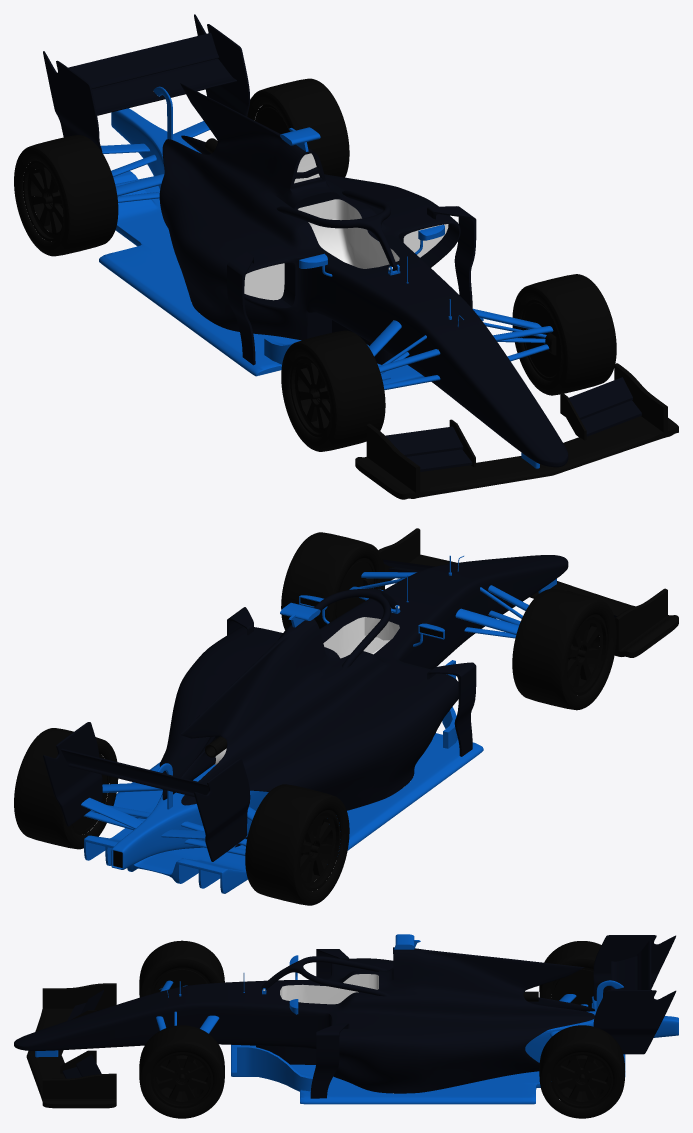
File: Men_accessory_Williams_px68_py15_pz-30_s0d3_5000.b8a06829.glb
3 views of the same model, one above another, from view 1: azimuth 30°, elevation 25°; view 2: azimuth 150°, elevation 25°; view 3: azimuth 270°, elevation 25° (orthographic). The views are drawn at different scales.
Visible parts, largest first — view 1: _gltfNode_0, _gltfNode_3, _gltfNode_13, _gltfNode_16, _gltfNode_4, _gltfNode_2, _gltfNode_10, _gltfNode_1, _gltfNode_14, _gltfNode_17; view 2: _gltfNode_0, _gltfNode_3, _gltfNode_16, _gltfNode_13, _gltfNode_4, _gltfNode_17, _gltfNode_14, _gltfNode_2, _gltfNode_10; view 3: _gltfNode_0, _gltfNode_3, _gltfNode_13, _gltfNode_4, _gltfNode_16, _gltfNode_10, _gltfNode_14, _gltfNode_17, _gltfNode_2, _gltfNode_9.
Boxes of the visible parts, bbox=[...] form: _gltfNode_0: bbox=[43, 14, 641, 471]; _gltfNode_3: bbox=[99, 86, 553, 468]; _gltfNode_13: bbox=[281, 274, 616, 451]; _gltfNode_16: bbox=[14, 78, 349, 256]; _gltfNode_4: bbox=[355, 363, 678, 499]; _gltfNode_2: bbox=[298, 199, 399, 268]; _gltfNode_10: bbox=[47, 107, 561, 401]; _gltfNode_1: bbox=[244, 153, 448, 300]; _gltfNode_14: bbox=[290, 299, 561, 437]; _gltfNode_17: bbox=[23, 104, 284, 241]; _gltfNode_0: bbox=[43, 555, 616, 861]; _gltfNode_3: bbox=[81, 555, 556, 893]; _gltfNode_16: bbox=[14, 728, 349, 905]; _gltfNode_13: bbox=[281, 532, 616, 710]; _gltfNode_4: bbox=[378, 528, 678, 657]; _gltfNode_17: bbox=[71, 754, 340, 890]; _gltfNode_14: bbox=[336, 558, 607, 695]; _gltfNode_2: bbox=[323, 617, 399, 658]; _gltfNode_10: bbox=[72, 561, 583, 855]; _gltfNode_0: bbox=[14, 935, 676, 1098]; _gltfNode_3: bbox=[35, 934, 678, 1104]; _gltfNode_13: bbox=[139, 940, 224, 1118]; _gltfNode_4: bbox=[26, 983, 116, 1108]; _gltfNode_16: bbox=[539, 941, 625, 1118]; _gltfNode_10: bbox=[153, 969, 607, 1089]; _gltfNode_14: bbox=[151, 967, 213, 1108]; _gltfNode_17: bbox=[551, 967, 613, 1108]; _gltfNode_2: bbox=[280, 974, 378, 1004]; _gltfNode_9: bbox=[164, 1058, 600, 1091].
Size of the model in its own units: 170 by 99.24 by 463.
